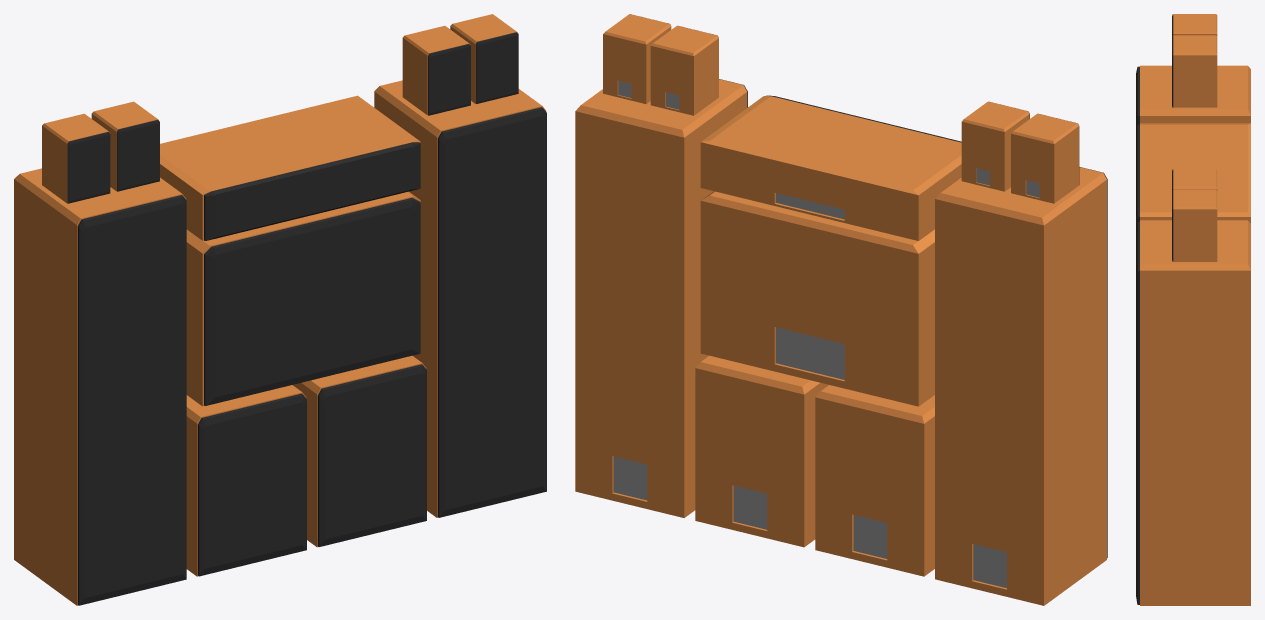
File: stereo shelf.glb
The picture shows the model from 3 angles, left to right: view 1: azimuth 30°, elevation 25°; view 2: azimuth 150°, elevation 25°; view 3: azimuth 270°, elevation 25°; orthographic projection. The views are drawn at different scales.
Visible parts, largest first — view 1: Cube.003, Cube.001, Cube.004, Cube.005, Cube.002, Cube, Cube.007, Cube.008, Cube.009, Cube.006; view 2: Cube.003, Cube.001, Cube.004, Cube.005, Cube, Cube.002, Cube.007, Cube.008, Cube.009, Cube.006; view 3: Cube.001, Cube.005, Cube.003, Cube.009, Cube.006, Cube.008, Cube.007.
Part boxes in pixels (<box>): Cube.003: <box>14,168,186,605</box>; Cube.001: <box>374,80,546,517</box>; Cube.004: <box>186,191,420,406</box>; Cube.005: <box>160,95,420,240</box>; Cube.002: <box>186,385,306,576</box>; Cube: <box>293,355,426,547</box>; Cube.007: <box>402,25,470,115</box>; Cube.008: <box>42,113,110,203</box>; Cube.009: <box>91,101,159,191</box>; Cube.006: <box>450,14,518,103</box>; Cube.003: <box>935,167,1107,605</box>; Cube.001: <box>575,79,747,517</box>; Cube.004: <box>700,191,934,406</box>; Cube.005: <box>700,95,961,240</box>; Cube: <box>695,355,828,547</box>; Cube.002: <box>815,385,934,576</box>; Cube.007: <box>650,25,718,115</box>; Cube.008: <box>1011,113,1079,203</box>; Cube.009: <box>961,101,1029,191</box>; Cube.006: <box>603,14,671,103</box>; Cube.001: <box>1136,220,1250,605</box>; Cube.005: <box>1136,123,1250,227</box>; Cube.003: <box>1136,65,1250,127</box>; Cube.009: <box>1172,35,1217,107</box>; Cube.006: <box>1172,189,1217,261</box>; Cube.008: <box>1172,14,1217,36</box>; Cube.007: <box>1172,169,1217,190</box>.
Bounding box in the file's own units: 3.91 × 3.57 × 0.9418.
